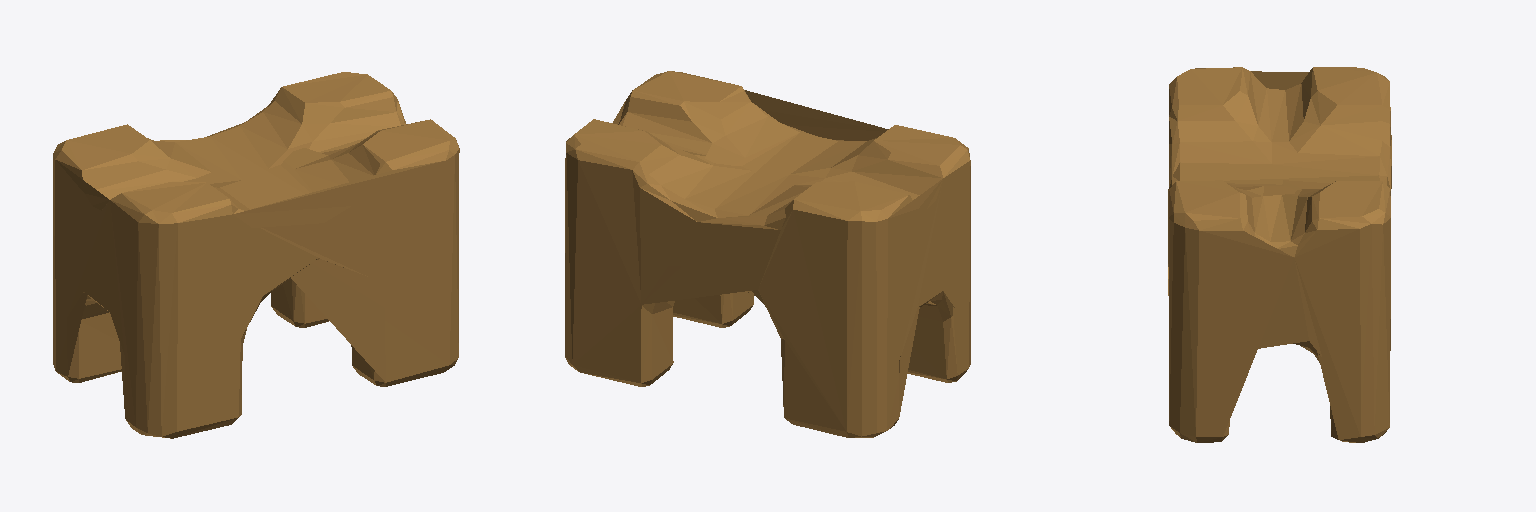
The picture shows the model from 3 angles: view 1: azimuth 30°, elevation 25°; view 2: azimuth 150°, elevation 25°; view 3: azimuth 270°, elevation 25°; orthographic projection.
Visible parts, largest first — view 1: kies; view 2: kies; view 3: kies.
Part boxes in pixels (bbox=[...]): kies: bbox=[53, 72, 459, 438]; kies: bbox=[565, 71, 970, 437]; kies: bbox=[1168, 67, 1391, 442].
Bounding box in the file's own units: 2.4 × 1.63 × 1.44.